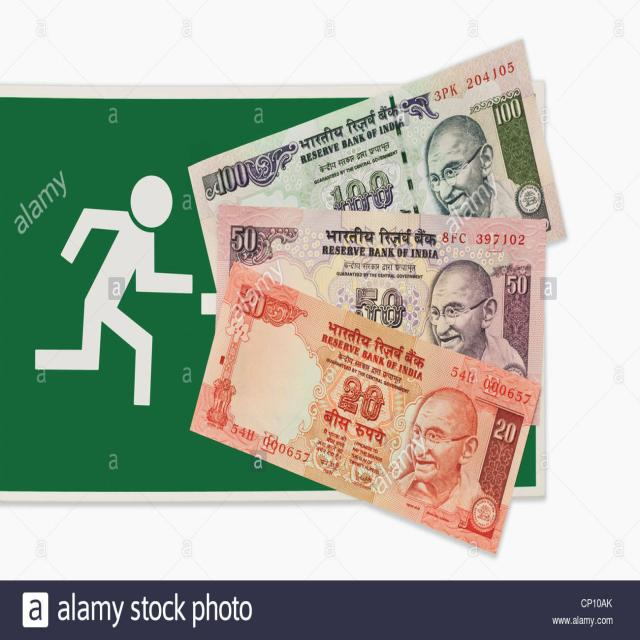20IndianRupees: (187, 258, 543, 553)
